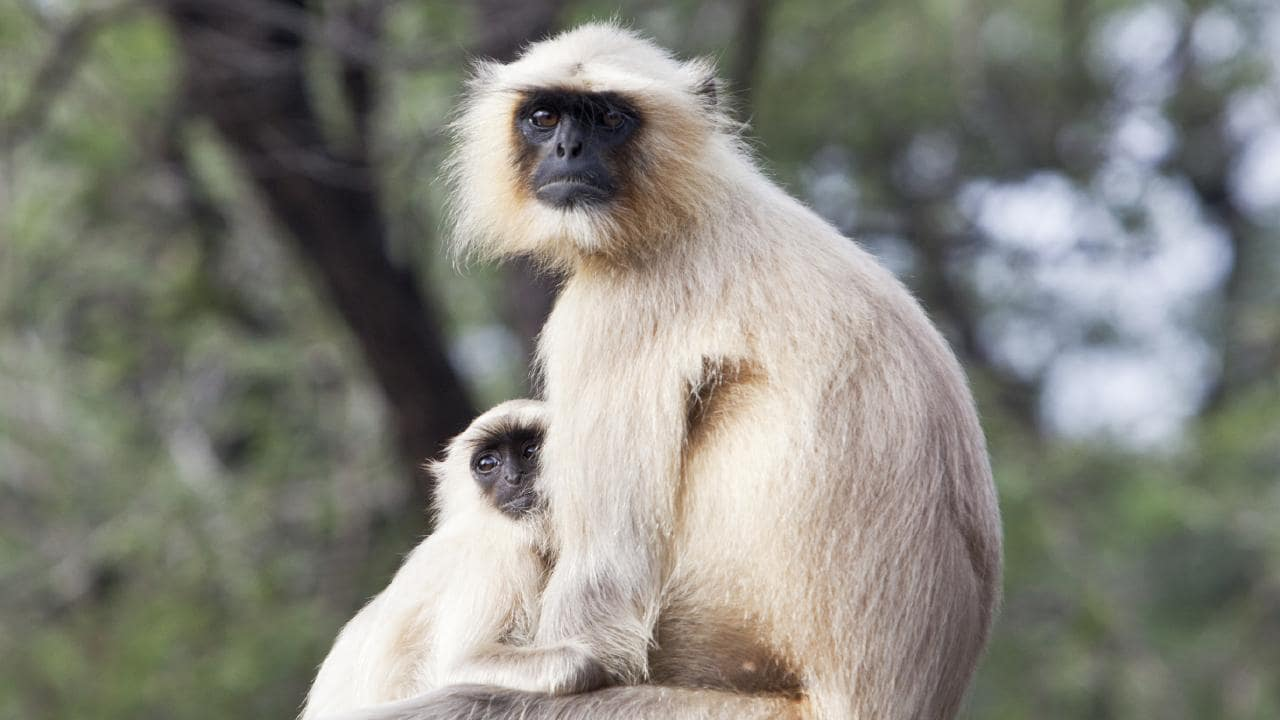langur: (452, 14, 1004, 710), (312, 389, 606, 720)
